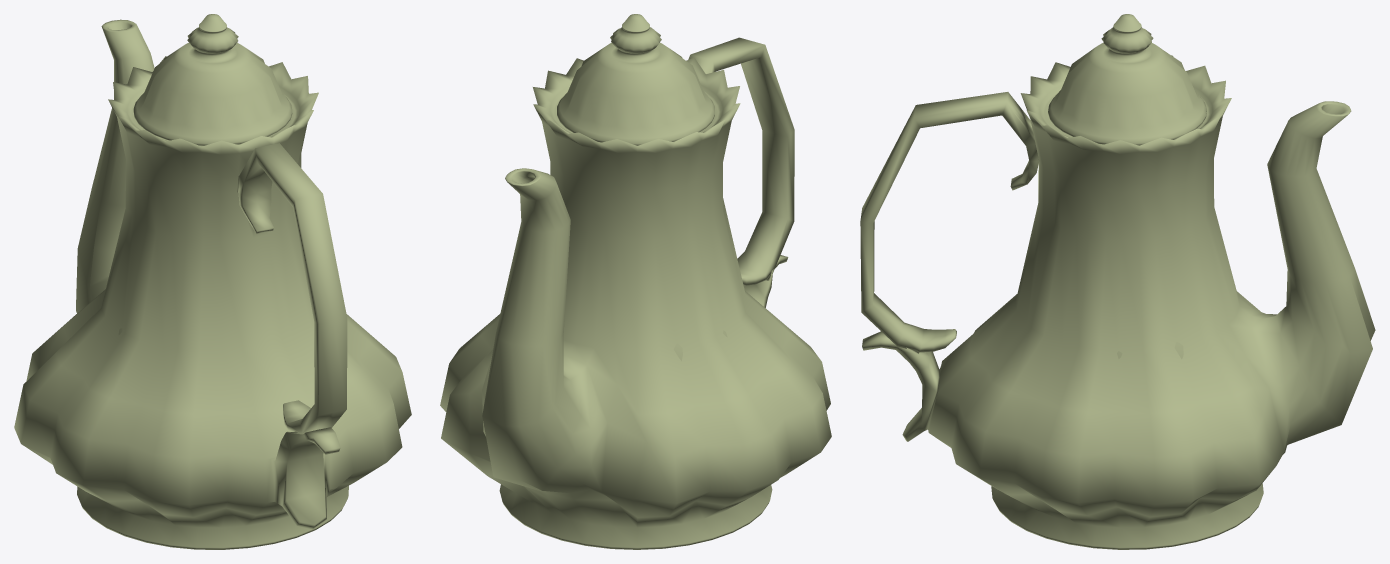
The model's file is teapot.glb.
3 views of the same model, side by side, from view 1: azimuth 30°, elevation 25°; view 2: azimuth 150°, elevation 25°; view 3: azimuth 270°, elevation 25° (orthographic).
Parts seen in each view (by area): view 1: Teapot; view 2: Teapot; view 3: Teapot.
Part boxes in pixels (x1,y1,x2,y2): Teapot: [14, 14, 411, 549]; Teapot: [440, 14, 831, 549]; Teapot: [860, 14, 1375, 549].
Bounding box in the file's own units: 3.01 × 4.02 × 3.93.
1 material, 1 textured.
